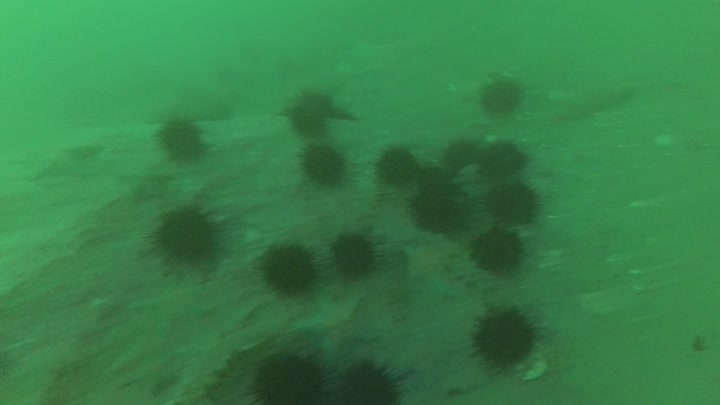echinus: (147, 208, 231, 270), (470, 308, 545, 373), (249, 356, 328, 405), (260, 243, 317, 298), (336, 365, 405, 405), (484, 183, 544, 228), (156, 119, 212, 165), (412, 194, 467, 236), (330, 236, 379, 280), (297, 145, 347, 188), (474, 232, 524, 274), (380, 144, 421, 191), (297, 90, 356, 122), (483, 142, 530, 181), (286, 104, 338, 137), (479, 77, 522, 116), (439, 140, 483, 175), (418, 169, 460, 200)
holothurian: (434, 240, 483, 289), (352, 153, 381, 222)
starfish: (384, 243, 425, 324)
